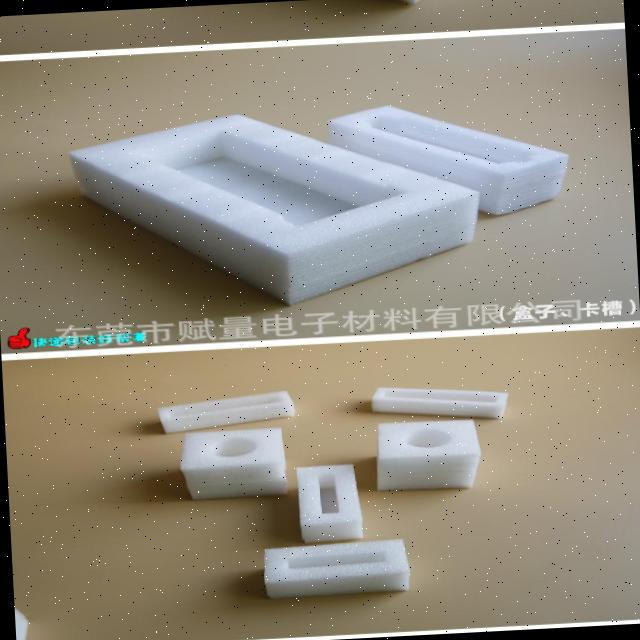styrofoam: (66, 100, 487, 317), (326, 95, 572, 224), (260, 538, 410, 600), (372, 416, 482, 494), (178, 427, 288, 502), (369, 379, 510, 426), (155, 390, 296, 434), (294, 463, 364, 544)
